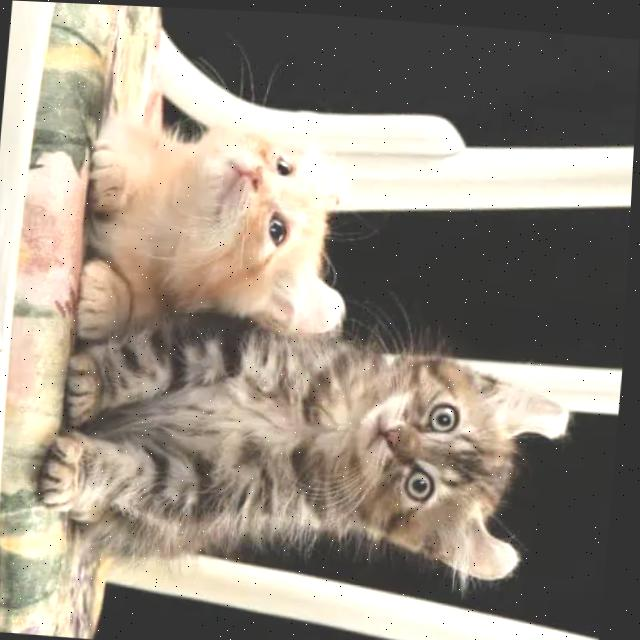American Curl: (32, 298, 582, 597), (73, 107, 369, 365)
